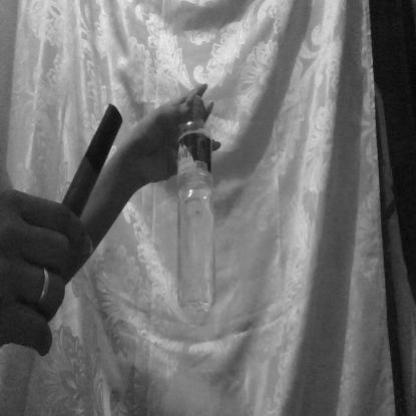Plastic Bottle: (170, 82, 237, 364)
